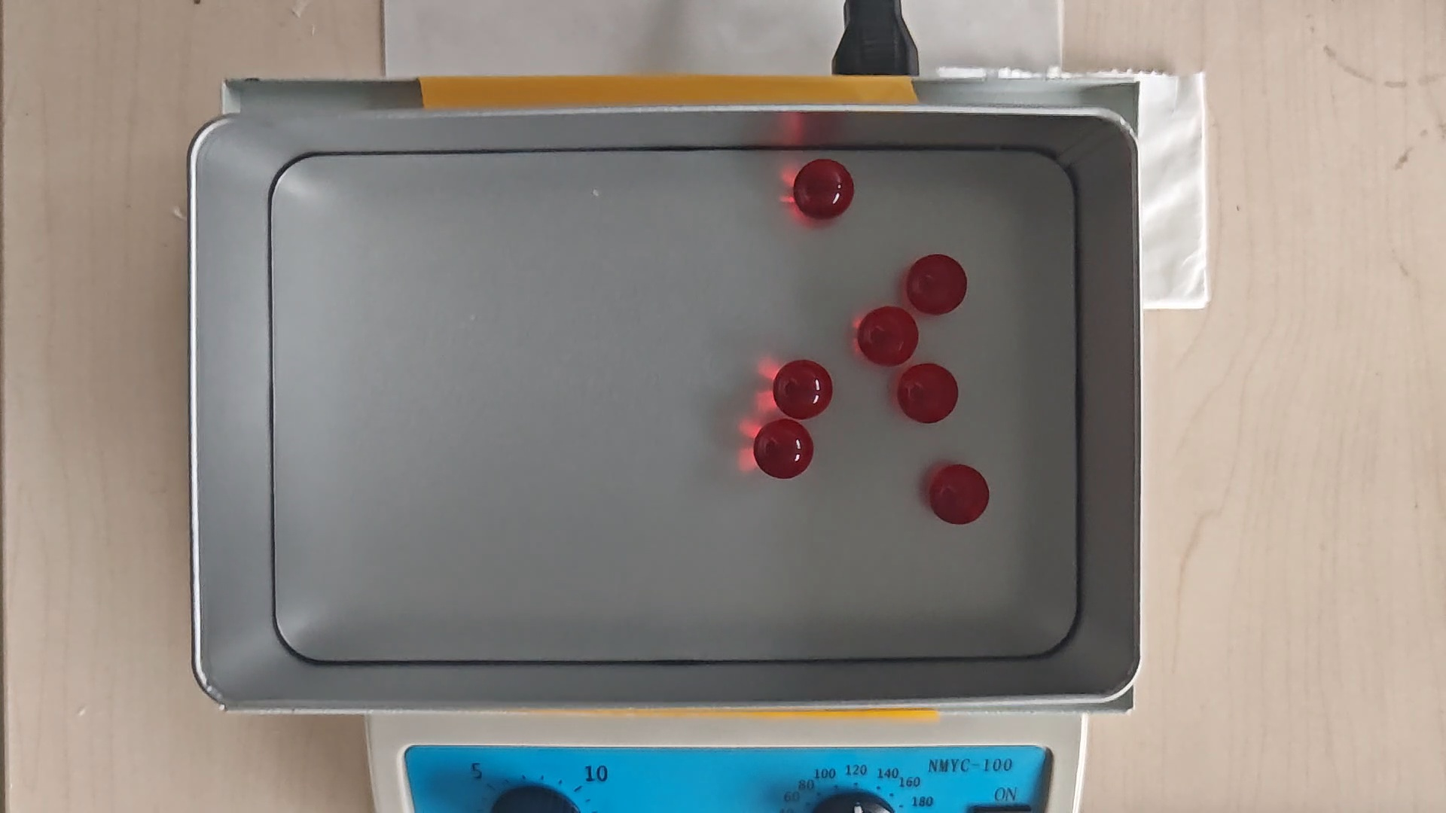ball: (905, 252, 968, 316), (856, 306, 919, 369), (792, 157, 854, 221), (752, 419, 815, 481), (898, 363, 959, 425), (929, 463, 990, 525), (772, 359, 832, 419)
container: (269, 147, 1079, 659)
